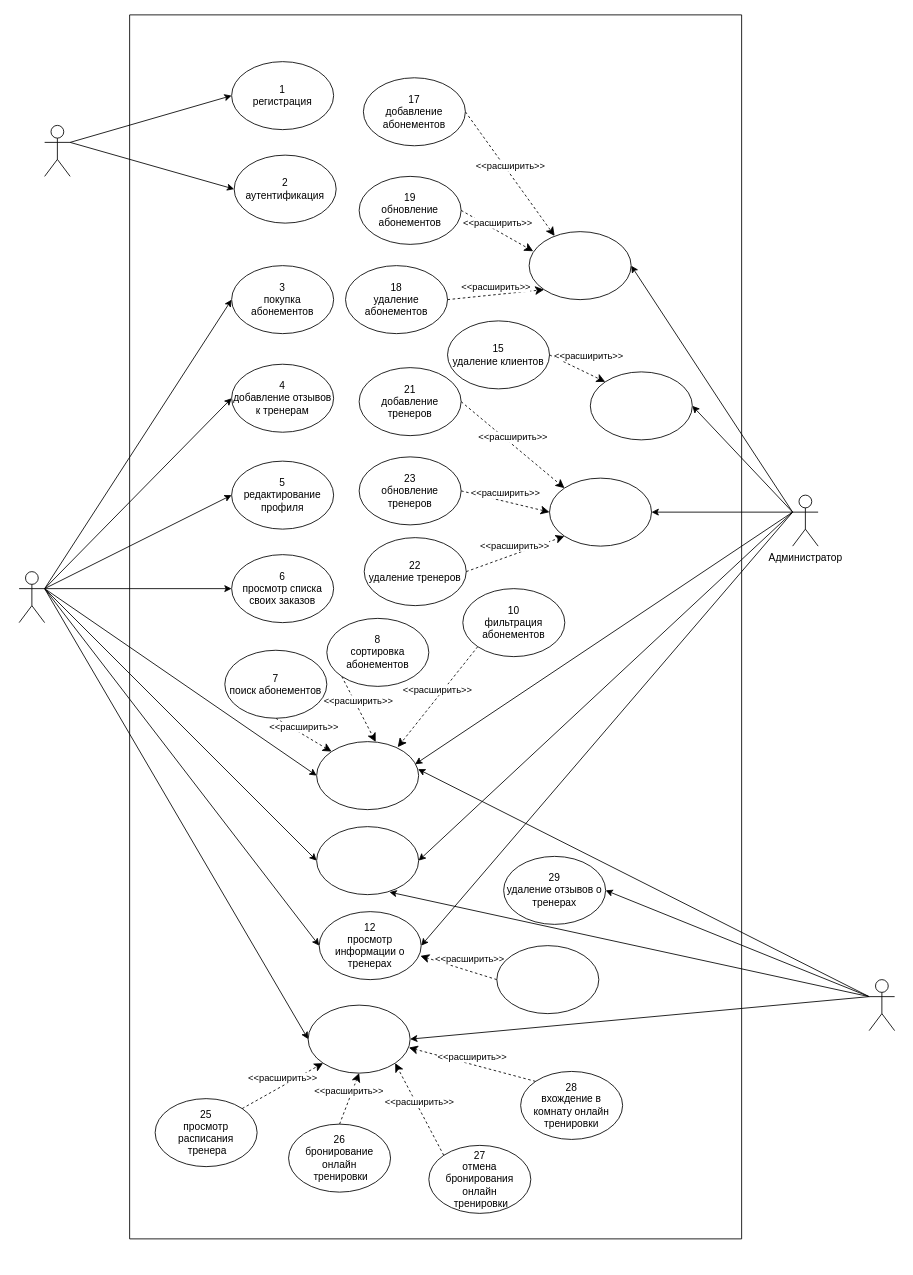
This 913x1275 diagram has some shape labels left out. Here are the shapes that lost their labels. From the top down, the centre of each, then its label:
the point at 57,150: Гость
the point at 579,265: 16 редактирование абонементов
the point at 640,405: 14 редактирование клиентов
the point at 600,511: 20 редактирование тренеров
the point at 31,597: Клиент
the point at 367,775: 9 просмотр информации о абонементах
the point at 367,860: 11 Выход из системы
the point at 547,979: 13 просмотр отзывов о тренерах
the point at 881,1005: Тренер
the point at 358,1038: 24 онлайн тренировки
